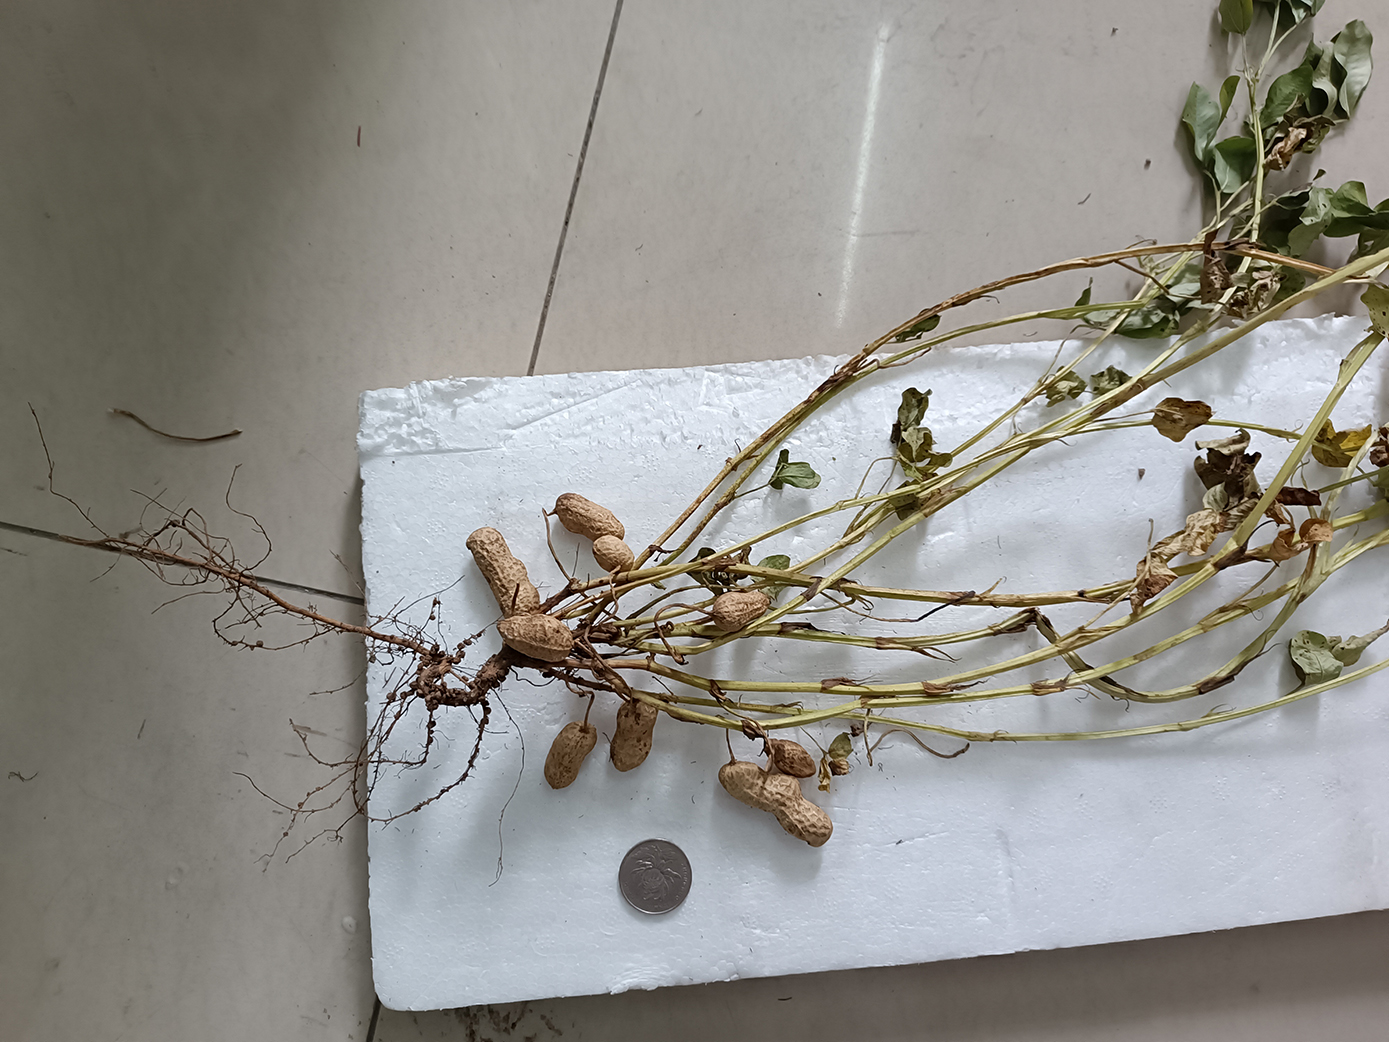h: (719, 761, 833, 846), (465, 526, 541, 615), (607, 701, 658, 772), (543, 723, 597, 790), (497, 613, 572, 660), (554, 493, 625, 540), (711, 588, 769, 630), (593, 535, 634, 574)
l: (765, 737, 817, 776)
